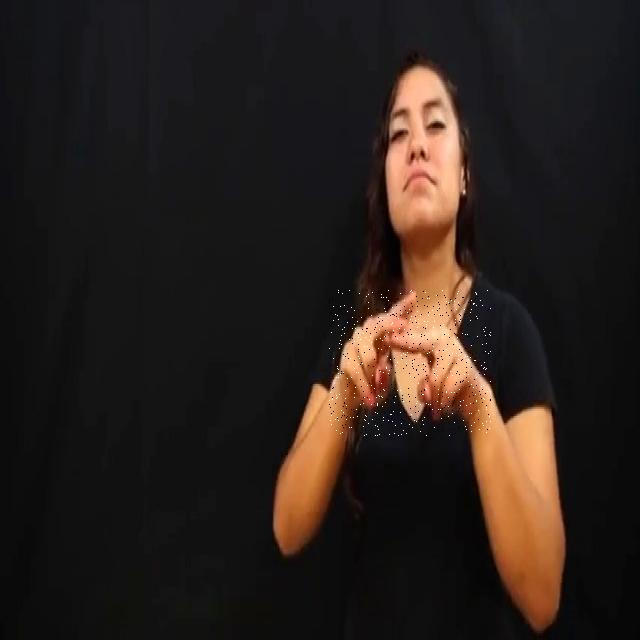salt: (329, 290, 491, 436)
